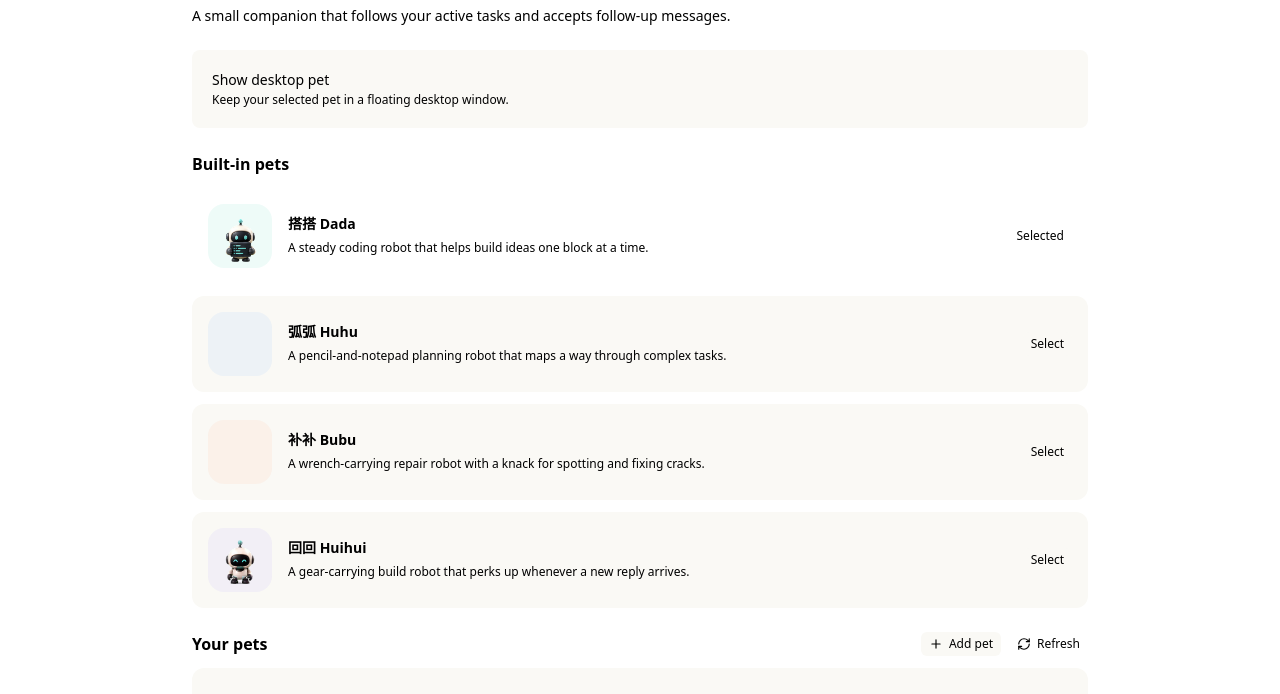
PetSettings › rolls back the saved preference when the native pet window cannot open
Click the switch labelled "Show desktop pet": [360, 89] box [212,70,509,108]
(page scrolled)
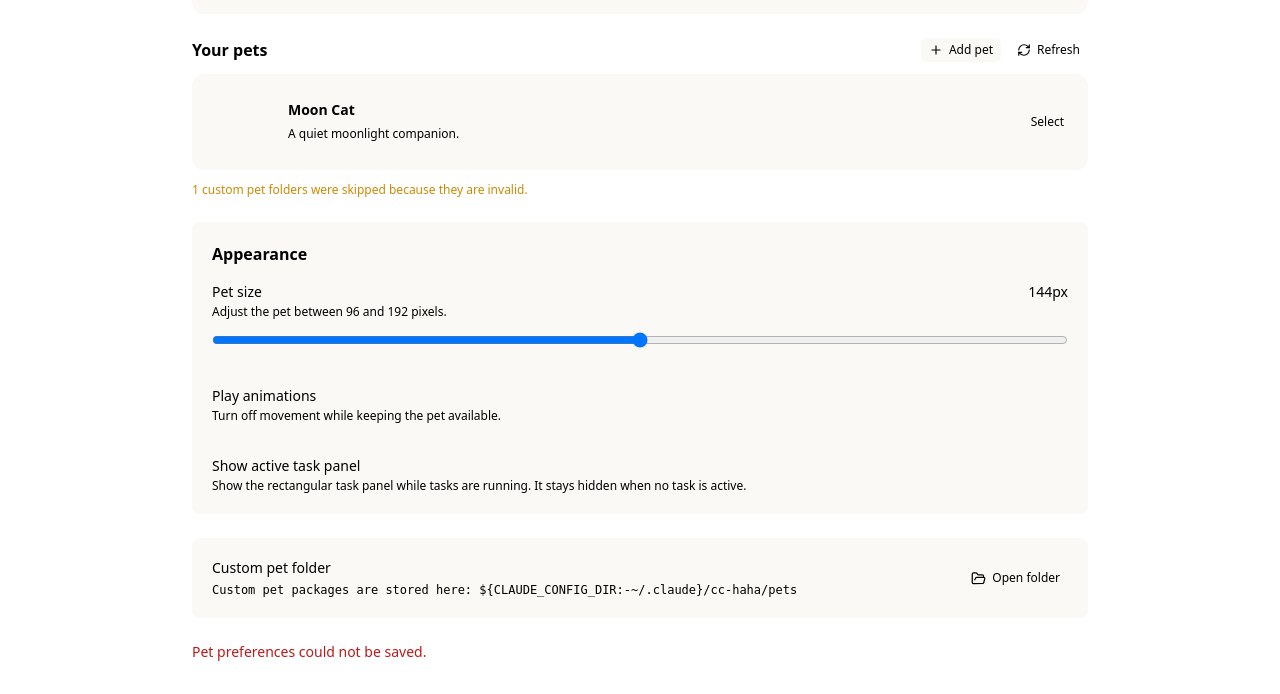
Check: the message "Pet preferences could not be saved." is shown, box [192,642,426,661]
